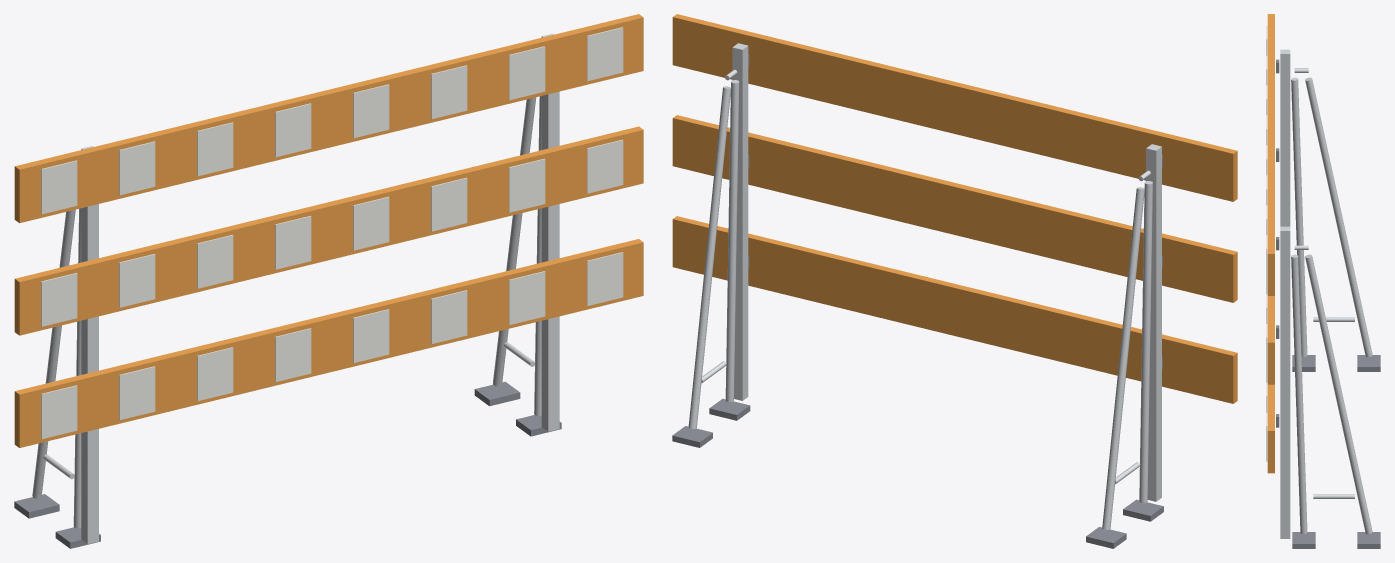
File: Barricade_Type3.fbx
3 views of the same model, side by side, from view 1: azimuth 30°, elevation 25°; view 2: azimuth 150°, elevation 25°; view 3: azimuth 270°, elevation 25° (orthographic). The views are drawn at different scales.
Parts seen in each view (by area): view 1: LOD0; view 2: LOD0; view 3: LOD0.
Part boxes in pixels (x1,y1,x2,y2): LOD0: (14,14,643,548); LOD0: (672,14,1237,548); LOD0: (1266,14,1380,548).
Size of what is drawn, in the model's own units: 244 by 152 by 49.2.
